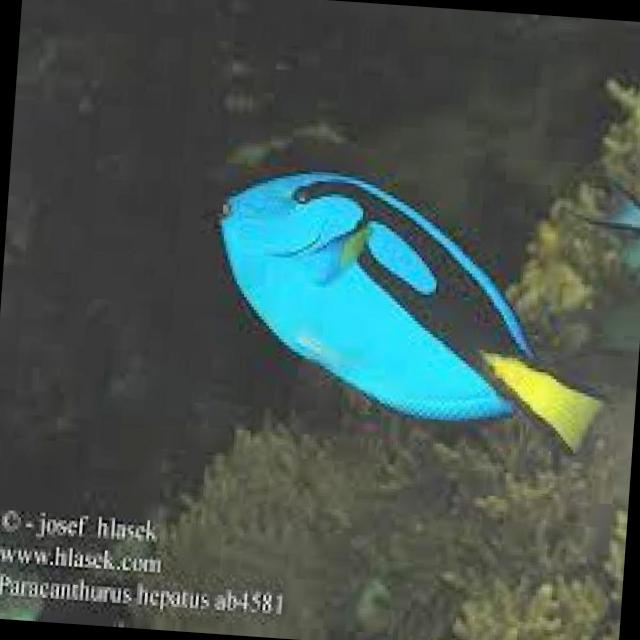TangFish: (204, 162, 622, 459)
